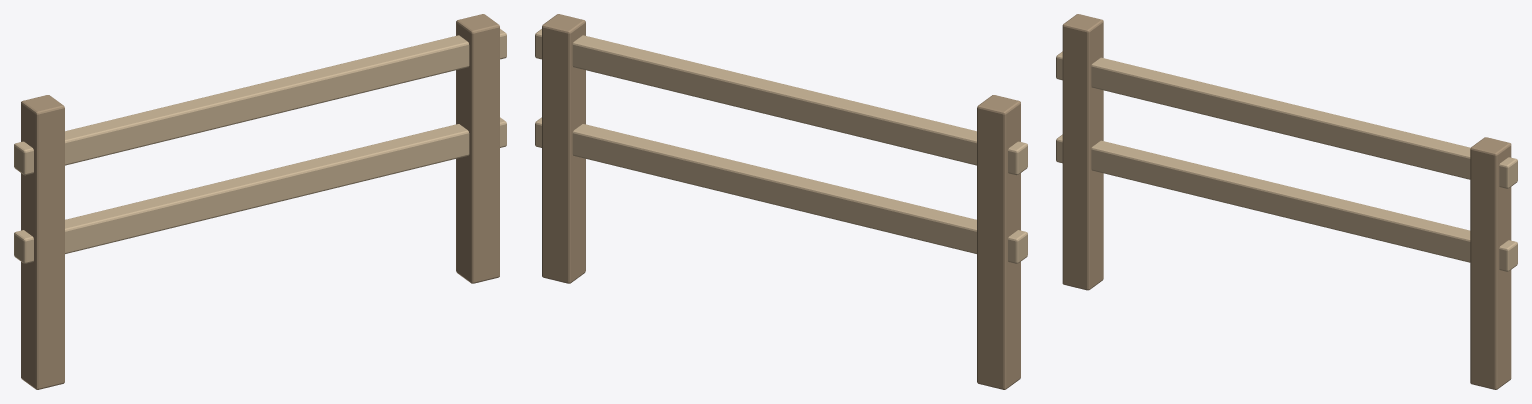
Rendered from fence.glb.
3 views of the same model, side by side, from view 1: azimuth 30°, elevation 25°; view 2: azimuth 150°, elevation 25°; view 3: azimuth 330°, elevation 25° (orthographic). The views are drawn at different scales.
Parts seen in each view (by area): view 1: post; view 2: post; view 3: post.
Part boxes in pixels (left/top/right/bottom): post: left=14, top=14, right=506, bottom=389; post: left=535, top=14, right=1027, bottom=389; post: left=1056, top=14, right=1517, bottom=389.
Size of the model in its own units: 2 by 1.1 by 0.12.
